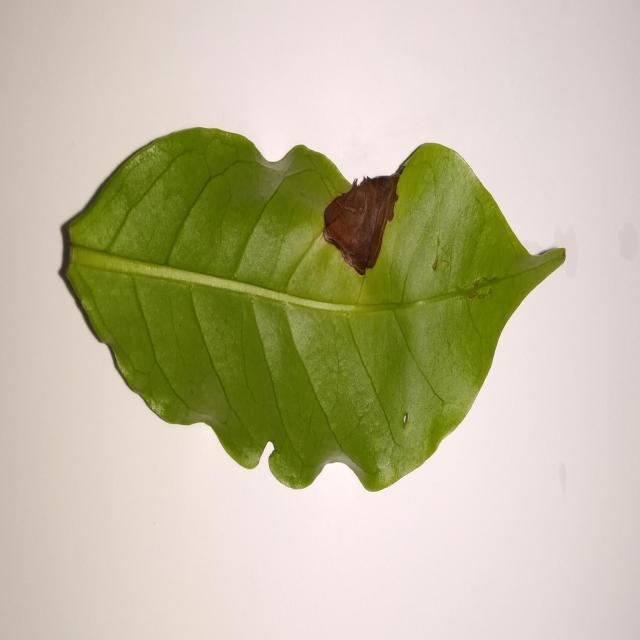Enfermedad-Antracnosis: (58, 127, 567, 495)
